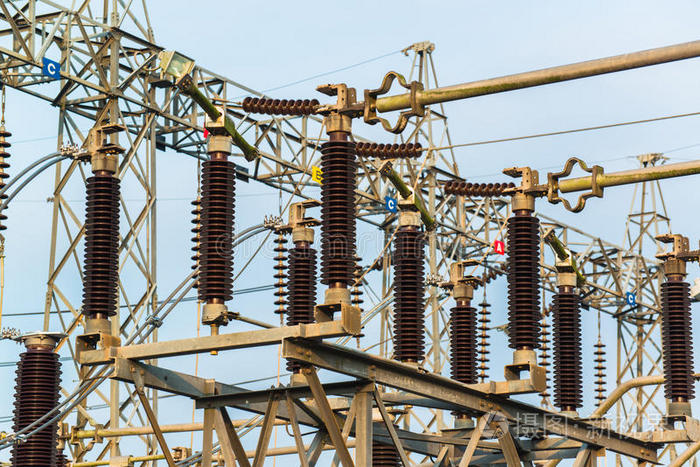insulator: (270, 234, 290, 319), (241, 95, 317, 117), (1, 131, 15, 245), (356, 138, 422, 161), (189, 199, 204, 291), (475, 299, 492, 379), (539, 322, 556, 399), (590, 341, 609, 406), (444, 179, 513, 196), (471, 266, 510, 292)
